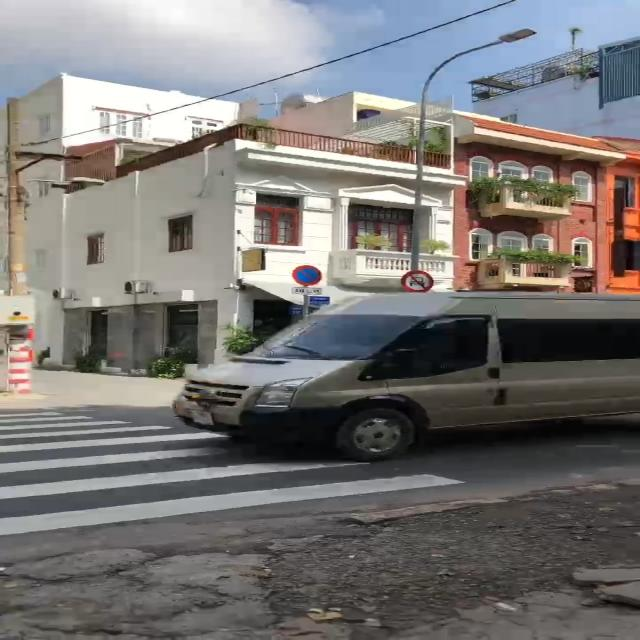Bien bao cam do xe: (289, 263, 326, 286)
Bien bao cam xe oto: (398, 268, 438, 292)
